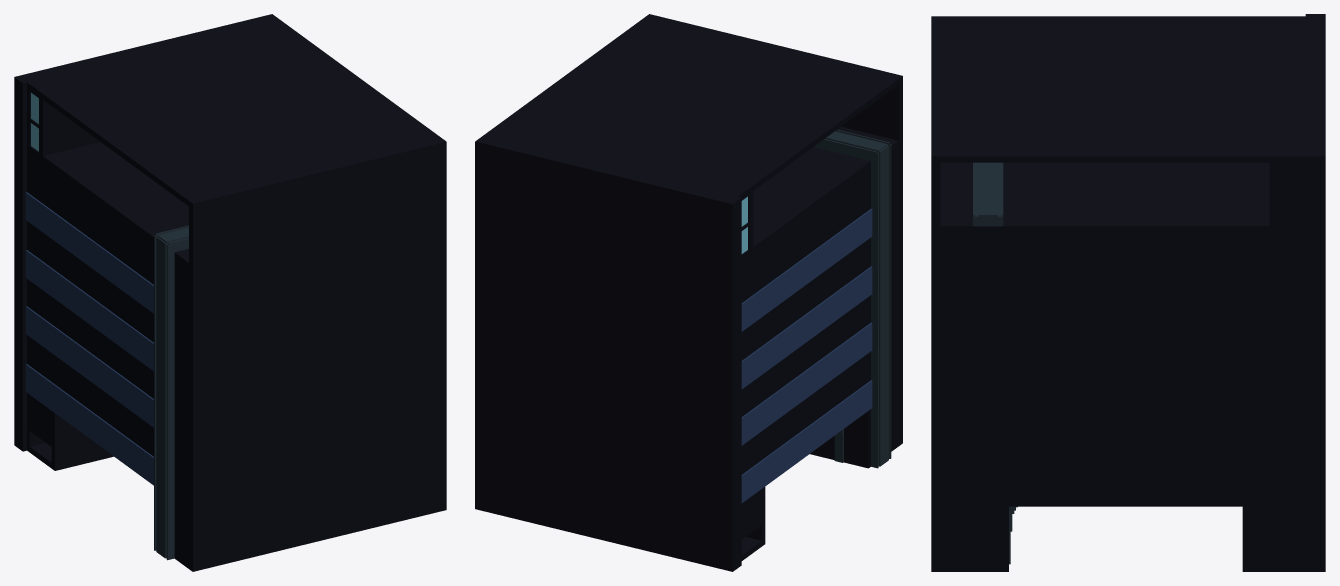
Rendered from UnderpassBuildingPrototype.obj.
The picture shows the model from 3 angles, left to right: view 1: azimuth 30°, elevation 25°; view 2: azimuth 150°, elevation 25°; view 3: azimuth 270°, elevation 25°; orthographic projection. The views are drawn at different scales.
Bounding box in the file's own units: 18.9 × 25.5 × 21.9.
1 material, 1 textured.
